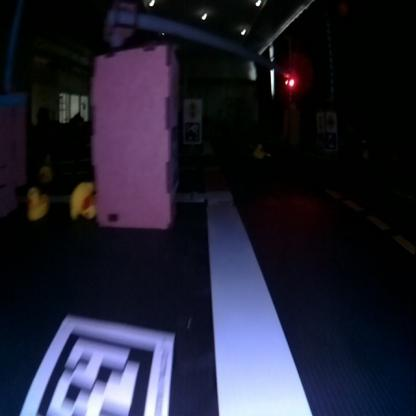Duckie: (69, 182, 95, 219), (25, 190, 48, 220), (252, 142, 264, 159)
QR code: (37, 314, 168, 410), (184, 122, 201, 143)
Signal sign: (183, 100, 201, 120)
Traffic light: (284, 74, 296, 89)
